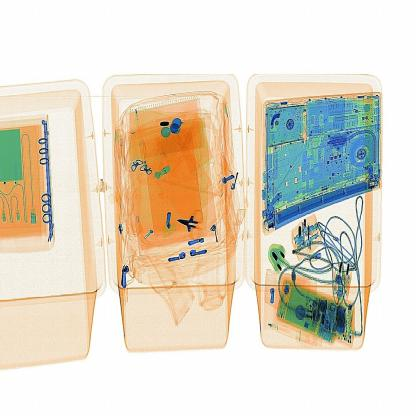gun: (165, 204, 213, 246)
